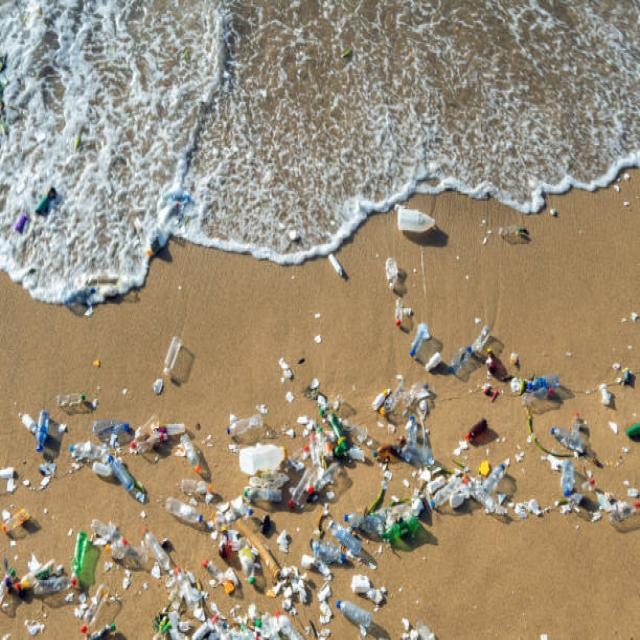plastic: (46, 354, 587, 618)
